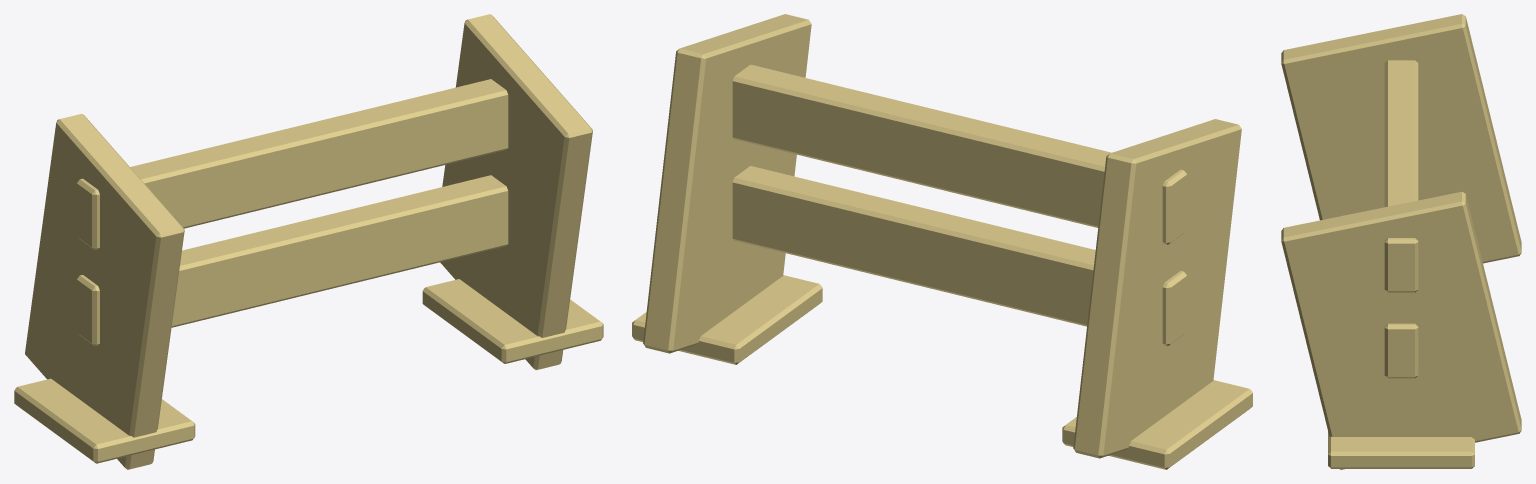
File: prop_barrier.glb
The picture shows the model from 3 angles, left to right: view 1: azimuth 30°, elevation 25°; view 2: azimuth 150°, elevation 25°; view 3: azimuth 270°, elevation 25°; orthographic projection. The views are drawn at different scales.
Parts seen in each view (by area): view 1: PropBarrier; view 2: PropBarrier; view 3: PropBarrier.
Boxes of the visible parts, left/top/right/bottom form: PropBarrier: left=14, top=14, right=603, bottom=469; PropBarrier: left=632, top=14, right=1252, bottom=469; PropBarrier: left=1281, top=14, right=1521, bottom=469.
Bounding box in the file's own units: 2.5 × 1.41 × 1.14.
